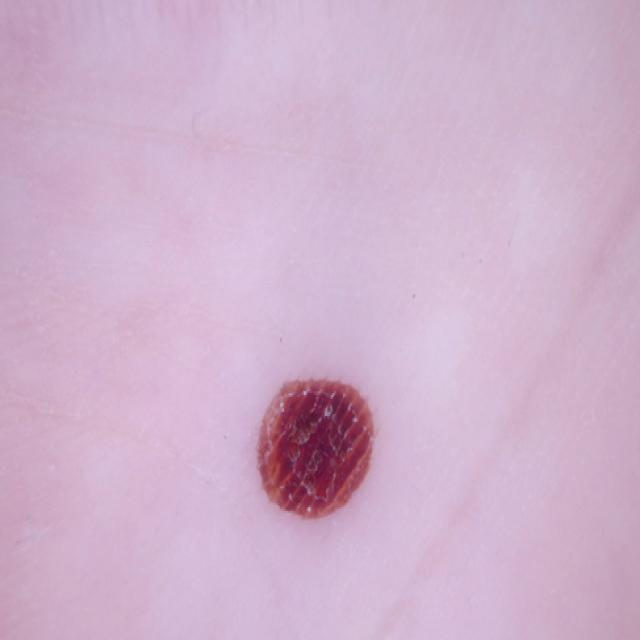Vascular Lesions: (230, 339, 417, 591)
